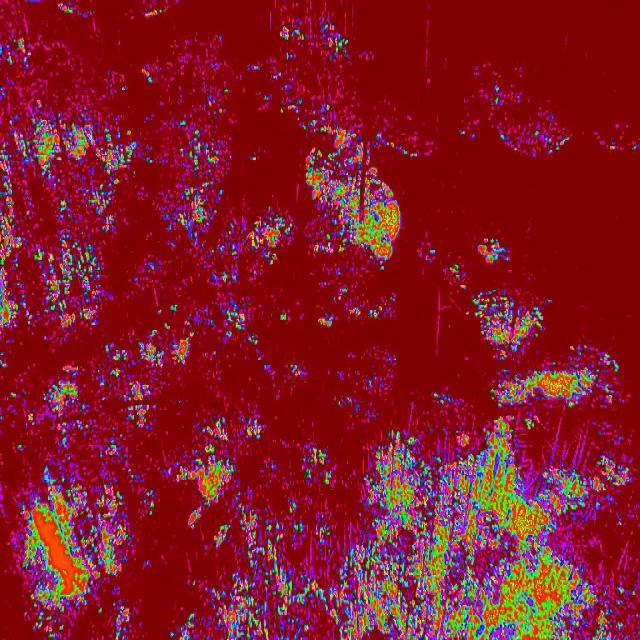fire: (0, 0, 248, 640), (249, 416, 640, 640), (248, 0, 402, 265), (470, 66, 569, 160), (489, 345, 621, 407), (466, 292, 560, 358), (330, 278, 401, 322), (472, 230, 512, 262), (432, 391, 466, 410), (446, 258, 462, 287), (312, 316, 336, 330), (278, 307, 292, 325)
